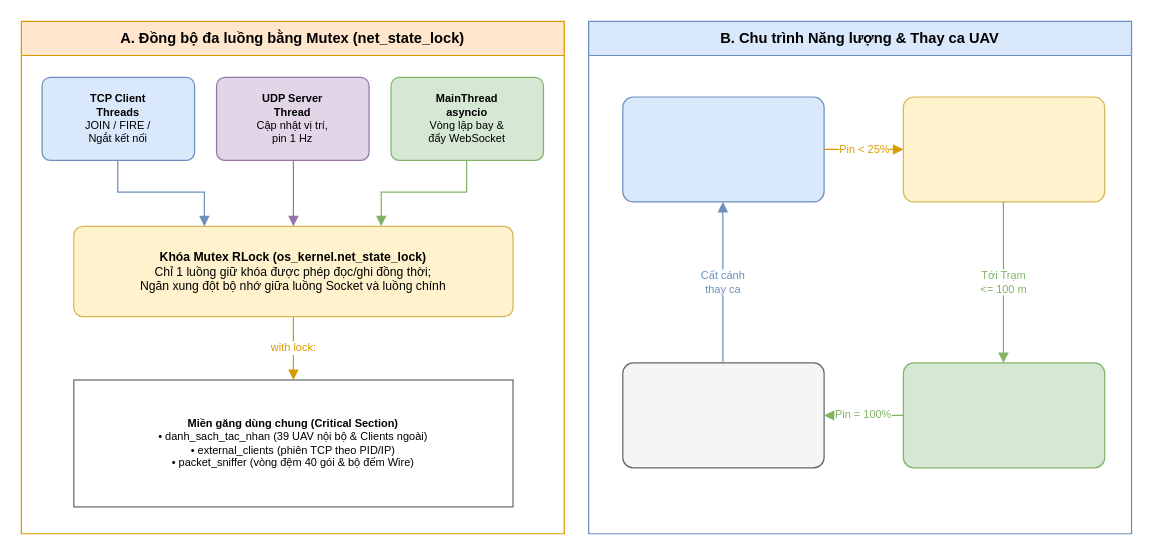
Image size: 1153x555. Some labels were removed from this diagram. Each missing label, with the centre of its shape:
"CHARGING (+15%/giây) Về Trạm <= 100 m; Nạp pin lên 100%" belongs at point 1003,415.
"PATROLLING (Tuần tra) Quét 600 m; Trường lực MAS" belongs at point 723,149.
"RETURNING (Về Trạm) Pin < 25%; Gọi dự bị thế chỗ" belongs at point 1003,149.
"STANDBY (Trực chiến 100%) Đỗ sẵn tại Trạm; Chờ lệnh thay ca" belongs at point 723,415.
